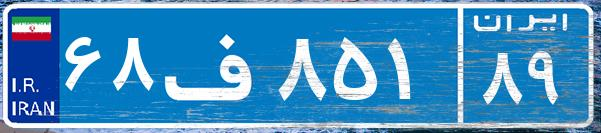1: (385, 28, 445, 110)
5: (330, 28, 385, 110)
6: (57, 26, 110, 107)
8: (273, 28, 330, 110), (475, 38, 525, 113), (110, 28, 158, 105)
9: (525, 38, 570, 115)
ف: (158, 15, 273, 115)
